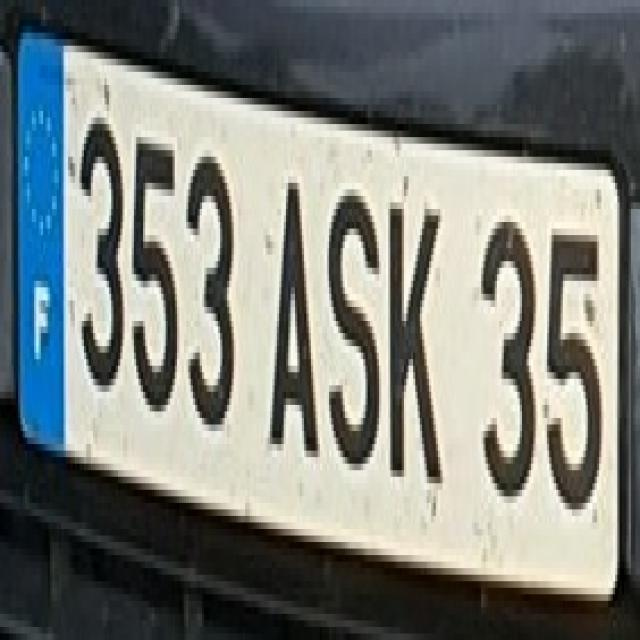EU: (16, 37, 618, 610)
France: (15, 40, 66, 449)
